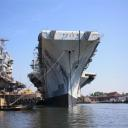Portanaves: (30, 11, 103, 111)
